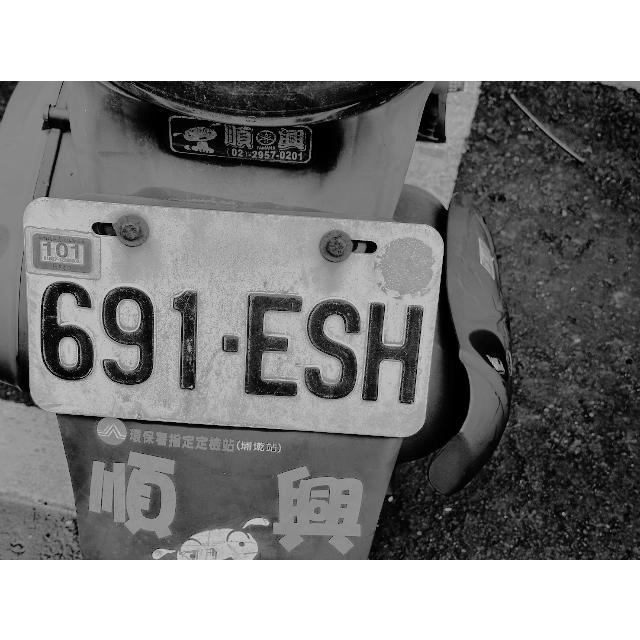-: (216, 325, 240, 357)
1: (167, 286, 205, 396)
6: (38, 276, 96, 386)
9: (100, 282, 156, 390)
E: (244, 288, 302, 399)
H: (362, 299, 423, 406)
S: (306, 292, 360, 403)
